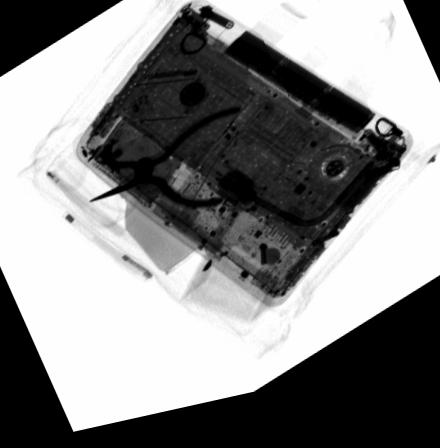Pliers: (86, 115, 242, 217)
